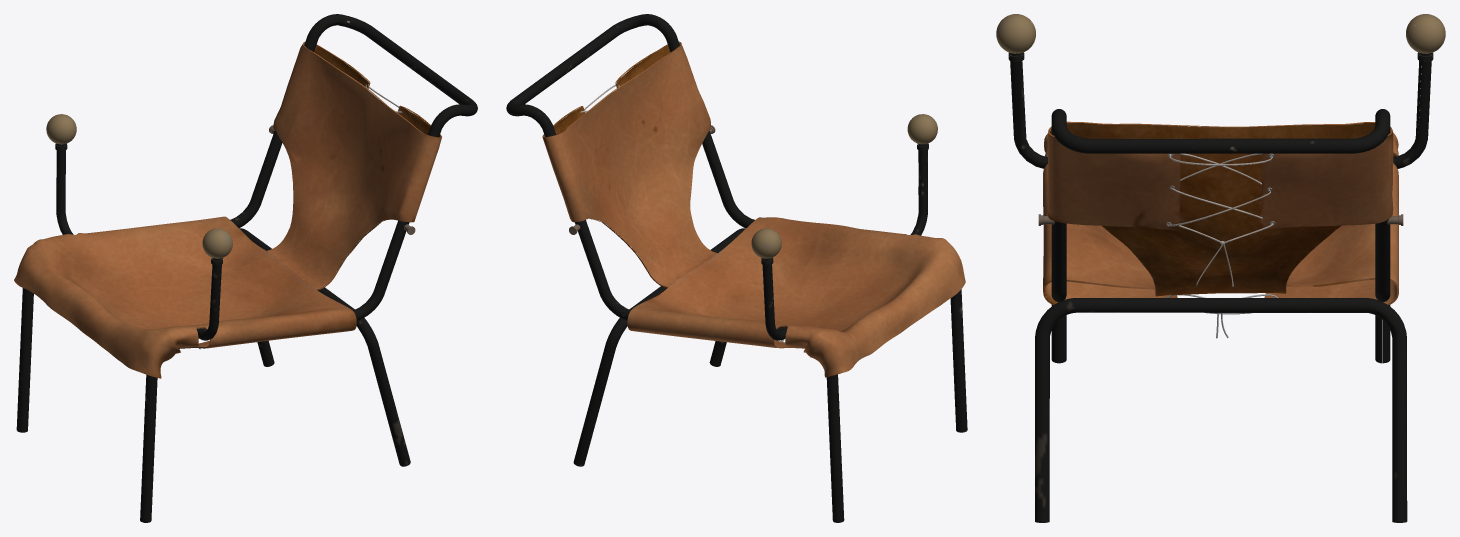
The picture shows the model from 3 angles, left to right: view 1: azimuth 30°, elevation 25°; view 2: azimuth 150°, elevation 25°; view 3: azimuth 270°, elevation 25°; orthographic projection. The views are drawn at different scales.
Parts seen in each view (by area): view 1: Plane.007, Plane.009, Plane.001, Plane.003, Sphere.001; view 2: Plane.007, Plane.009, Plane.001, Plane.003, Sphere.001; view 3: Plane.009, Plane.001, Plane.007, Plane.003, Sphere.001, BezierCurve.003.
Part boxes in pixels (bbox=[...]): Plane.007: bbox=[14, 216, 356, 378]; Plane.009: bbox=[267, 42, 441, 290]; Plane.001: bbox=[16, 14, 477, 522]; Plane.003: bbox=[56, 143, 222, 340]; Sphere.001: bbox=[46, 114, 232, 258]; Plane.007: bbox=[627, 217, 965, 377]; Plane.009: bbox=[542, 41, 717, 288]; Plane.001: bbox=[506, 14, 967, 522]; Plane.003: bbox=[762, 143, 927, 340]; Sphere.001: bbox=[751, 114, 937, 258]; Plane.009: bbox=[1048, 121, 1393, 296]; Plane.001: bbox=[1035, 109, 1407, 522]; Plane.007: bbox=[1043, 133, 1398, 305]; Plane.003: bbox=[1009, 53, 1431, 168]; Sphere.001: bbox=[996, 14, 1445, 53]; BezierCurve.003: bbox=[1168, 153, 1273, 286].
Bounding box in the file's own units: 84.87 × 79.46 × 72.44.
Materials: 8 (8 with a texture image).
